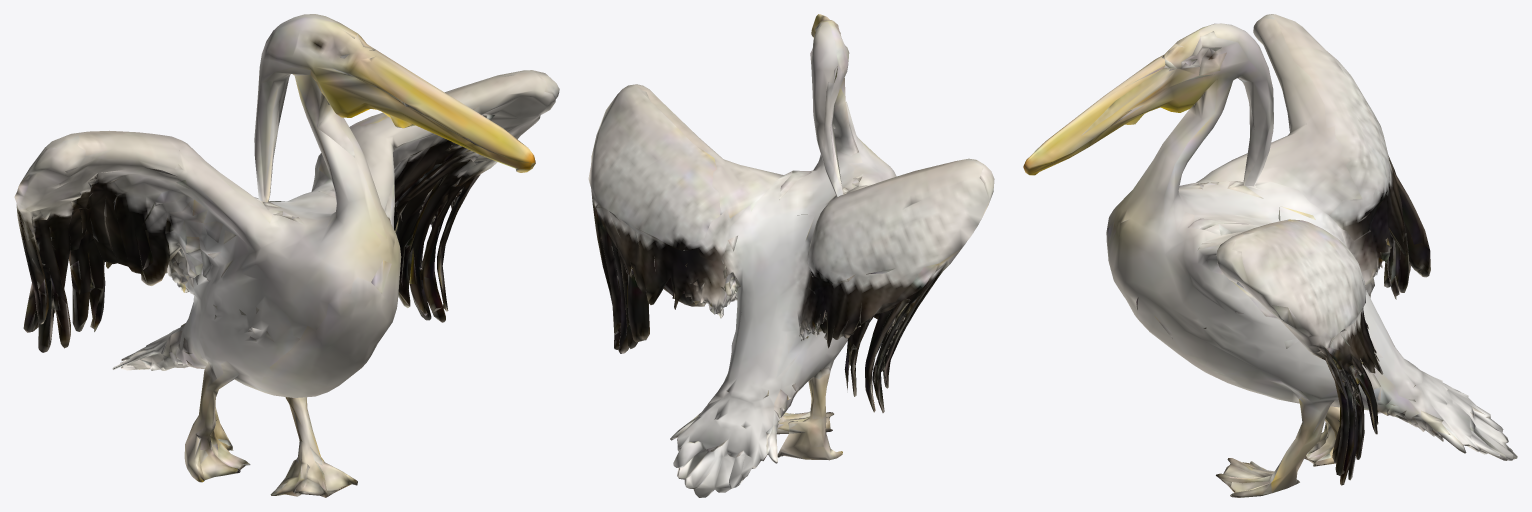
The model's file is kit_balikesir_pelican.glb.
3 views of the same model, side by side, from view 1: azimuth 30°, elevation 25°; view 2: azimuth 150°, elevation 25°; view 3: azimuth 270°, elevation 25° (orthographic). The views are drawn at different scales.
Parts seen in each view (by area): view 1: Mesh_0; view 2: Mesh_0; view 3: Mesh_0.
Boxes of the visible parts, left/top/right/bottom form: Mesh_0: left=14, top=14, right=559, bottom=497; Mesh_0: left=588, top=14, right=994, bottom=497; Mesh_0: left=1023, top=14, right=1517, bottom=497.
Bounding box in the file's own units: 1.08 × 1 × 0.9968.
1 material, 1 textured.
